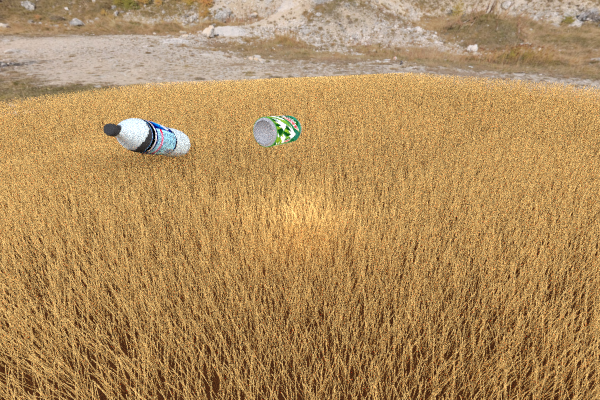Plastic Bottle: (274, 170, 385, 248), (103, 118, 190, 157), (253, 115, 301, 147)
